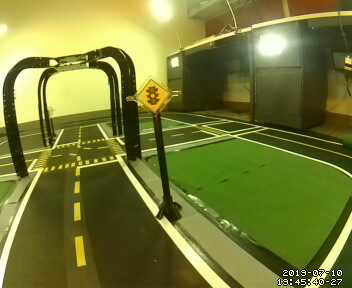Traffic light sign: (136, 78, 172, 113)
